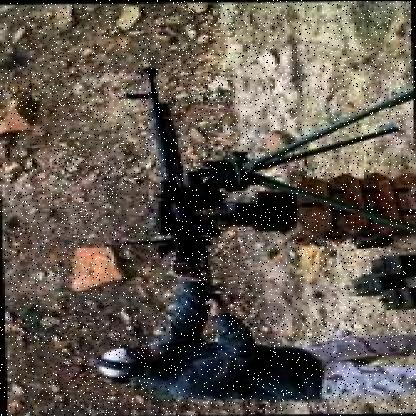rifle: (134, 57, 220, 265)
